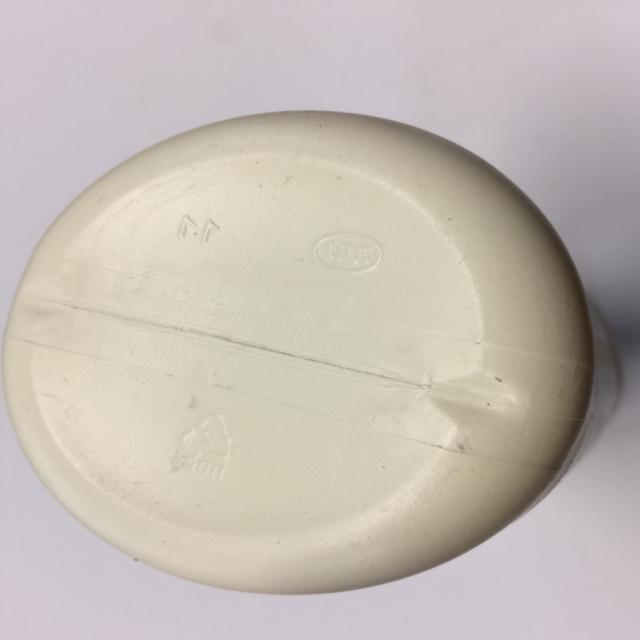plastic: (1, 109, 596, 595)
